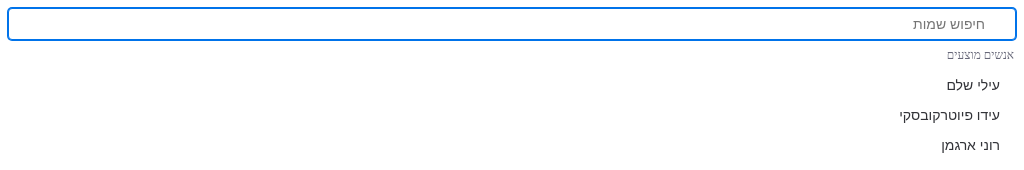
Test: PersonPicker — search matches first OR last name › "ע" surfaces both people whose FIRST name starts with ע, but not רוני
The image size is (1024, 170).
Type "ע" into the field named "חיפוש שם". click: (512, 24)
box: [8, 8, 1016, 40]
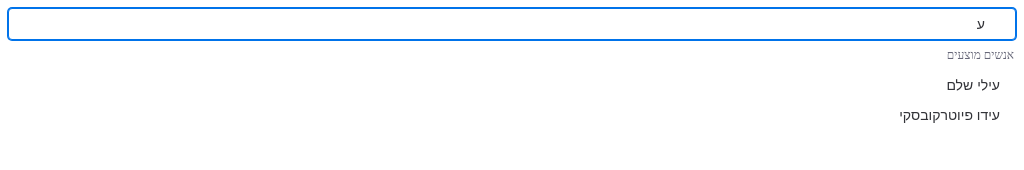
Check: the text "עילי שלם" is shown, box [946, 77, 1000, 93]
Check: the button "רוני ארגמן" is gone
